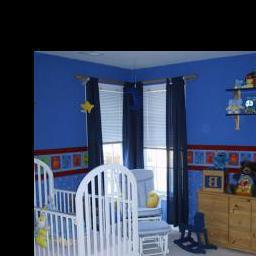Otro Obstaculo: (169, 207, 210, 256)
